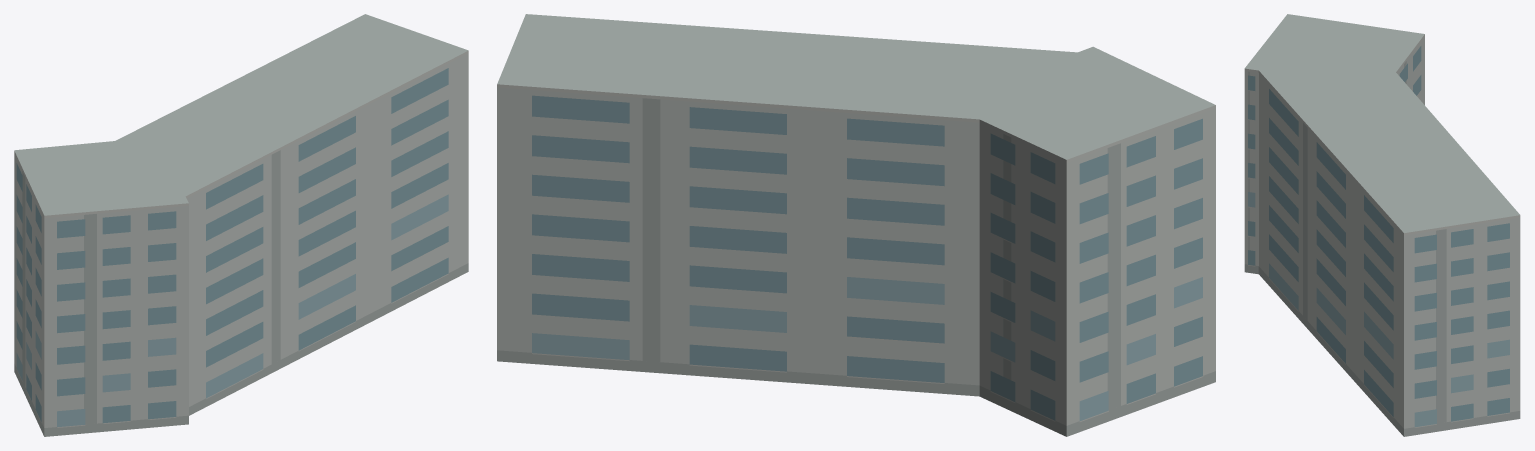
File: survey-upis-32847992.glb
3 renders of one model, left to right at view 1: azimuth 30°, elevation 25°; view 2: azimuth 150°, elevation 25°; view 3: azimuth 270°, elevation 25°, orthographic. The views are drawn at different scales.
Parts seen in each view (by area): view 1: survey-upis-32847992.tmp; view 2: survey-upis-32847992.tmp; view 3: survey-upis-32847992.tmp.
Boxes of the visible parts, x1,y1,x2,y2 form: survey-upis-32847992.tmp: (14,14,468,436); survey-upis-32847992.tmp: (497,14,1215,436); survey-upis-32847992.tmp: (1244,14,1520,436).
Size of the model in its own units: 47.77 by 20.7 by 25.42.
